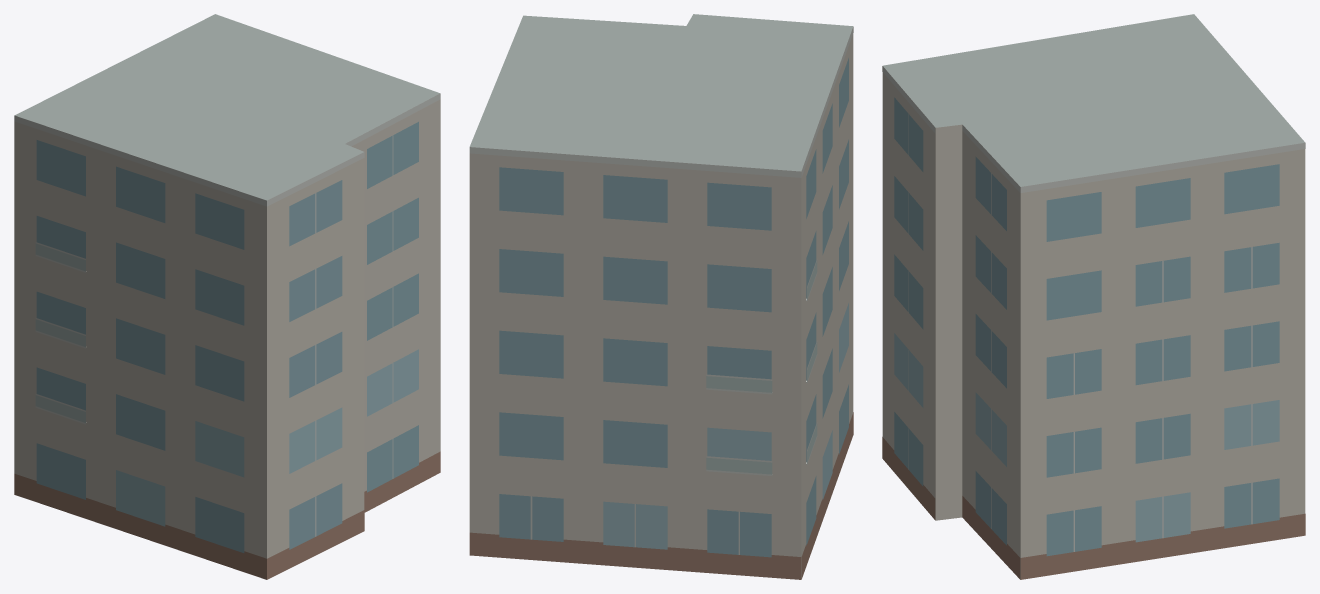
The model's file is survey-upis-32951623.glb.
3 views of the same model, side by side, from view 1: azimuth 30°, elevation 25°; view 2: azimuth 150°, elevation 25°; view 3: azimuth 270°, elevation 25° (orthographic). The views are drawn at different scales.
Visible parts, largest first — view 1: survey-upis-32951623.tmp; view 2: survey-upis-32951623.tmp; view 3: survey-upis-32951623.tmp.
Boxes of the visible parts, <box> form: survey-upis-32951623.tmp: <box>14,14,440,579</box>; survey-upis-32951623.tmp: <box>469,14,853,579</box>; survey-upis-32951623.tmp: <box>882,14,1305,579</box>.
Bounding box in the file's own units: 14.69 × 15.55 × 15.18.
